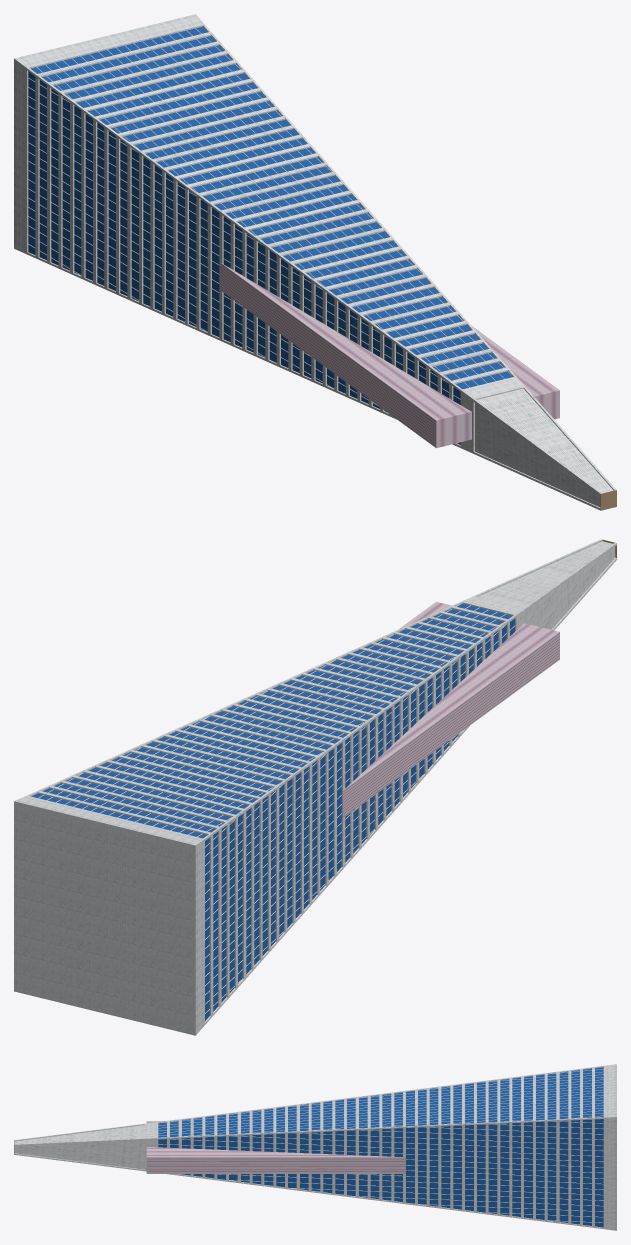
Rendered from Sky011.obj.
The picture shows the model from 3 angles, top to bottom: view 1: azimuth 30°, elevation 25°; view 2: azimuth 150°, elevation 25°; view 3: azimuth 270°, elevation 25°; orthographic projection. The views are drawn at different scales.
Parts seen in each view (by area): view 1: glaz_01, peak_01, tiles_01, frame_01, wall_01; view 2: peak_01, glaz_01, wall_01, tiles_01, frame_01; view 3: glaz_01, peak_01, frame_01, tiles_01, wall_01.
Boxes of the visible parts, left/top/right/bottom form: glaz_01: left=28, top=26, right=512, bottom=444; peak_01: left=27, top=25, right=616, bottom=510; tiles_01: left=219, top=262, right=559, bottom=448; frame_01: left=28, top=28, right=511, bottom=444; wall_01: left=14, top=14, right=525, bottom=453; peak_01: left=27, top=539, right=616, bottom=1024; glaz_01: left=31, top=603, right=514, bottom=1020; wall_01: left=14, top=596, right=525, bottom=1035; tiles_01: left=343, top=601, right=559, bottom=817; frame_01: left=38, top=604, right=514, bottom=1013; glaz_01: left=158, top=1067, right=603, bottom=1227; peak_01: left=14, top=1066, right=603, bottom=1228; frame_01: left=158, top=1069, right=603, bottom=1222; tiles_01: left=146, top=1121, right=405, bottom=1173; wall_01: left=145, top=1064, right=616, bottom=1230.
Size of the model in its own units: 1276 by 1276 by 6131.
Materials: 6 (2 with a texture image).
